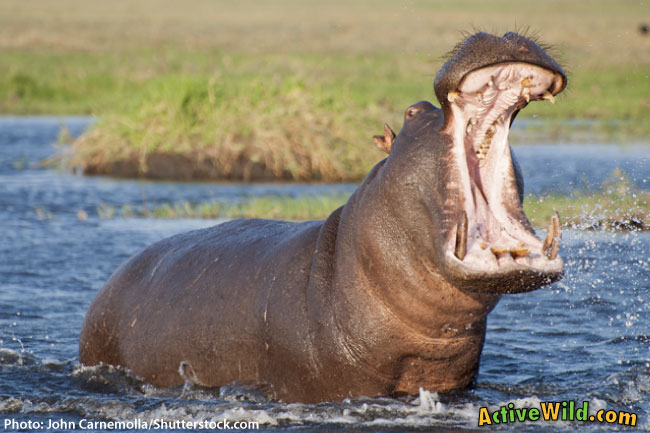Hippopotamus: (78, 24, 566, 395)
